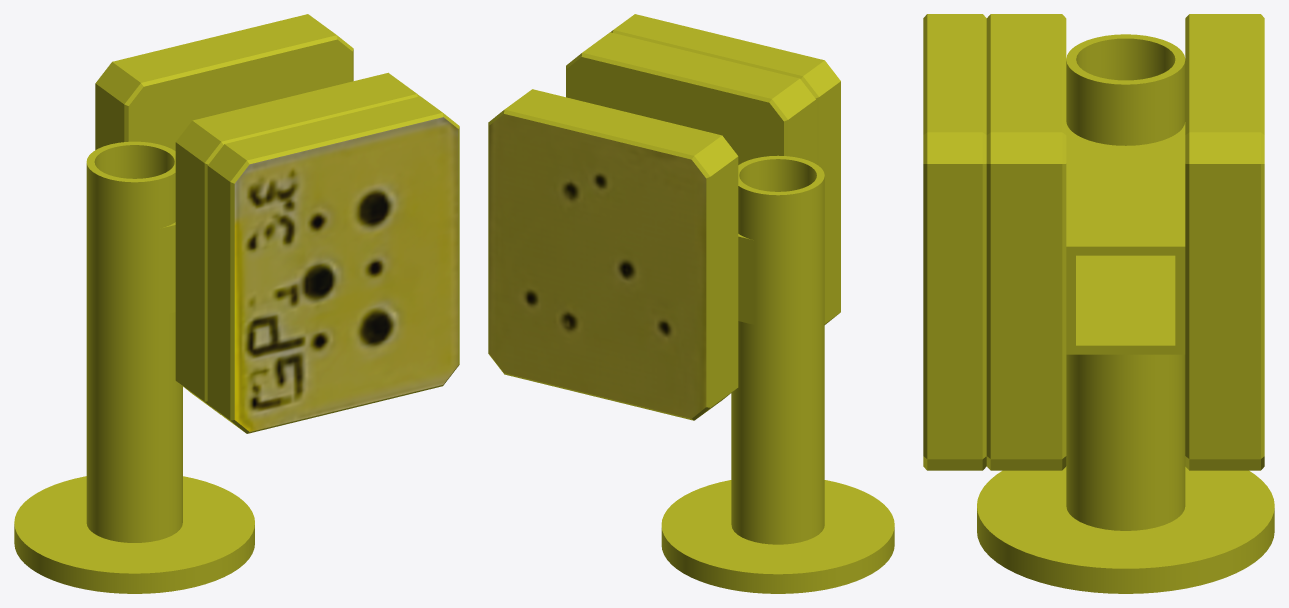
The model's file is tool.dae.
3 views of the same model, side by side, from view 1: azimuth 30°, elevation 25°; view 2: azimuth 150°, elevation 25°; view 3: azimuth 270°, elevation 25° (orthographic). The views are drawn at different scales.
Parts seen in each view (by area): view 1: tool (×24); view 2: tool (×23); view 3: tool (×32).
Boxes of the visible parts, left/top/right/bottom form: tool (×24): left=14, top=14, right=458, bottom=593; tool (×23): left=489, top=14, right=894, bottom=593; tool (×32): left=923, top=14, right=1274, bottom=593.
Bounding box in the file's own units: 0.1255 × 0.0885 × 0.149.
3 materials, 2 textured.
